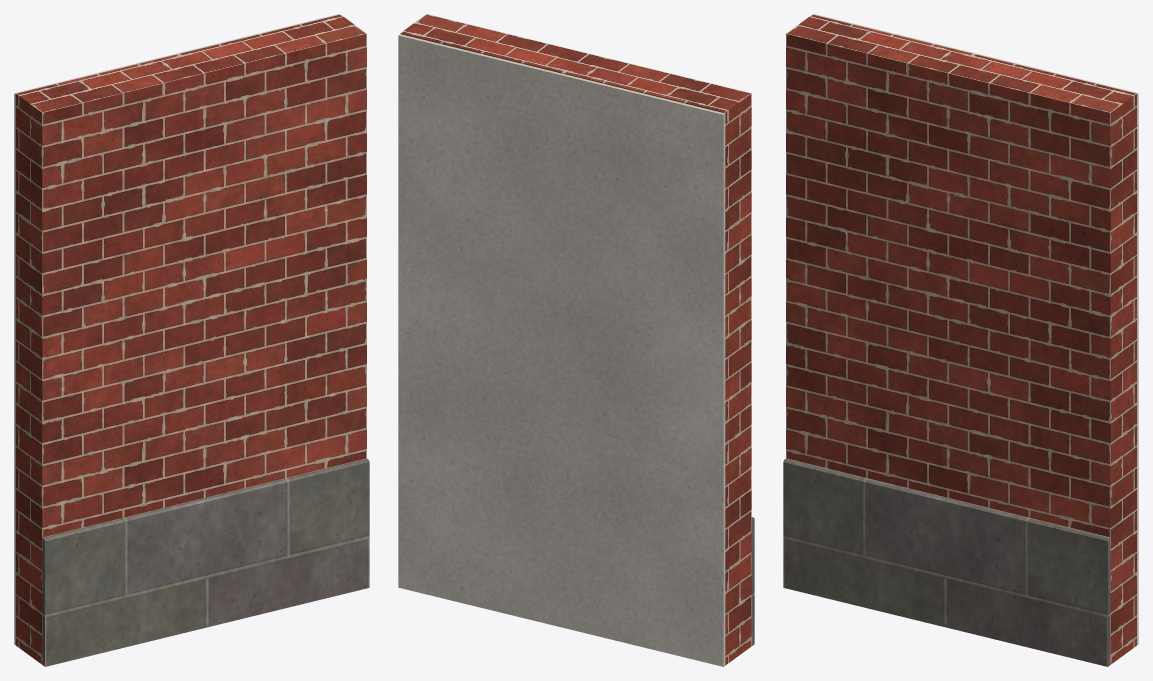
File: o_g_plain.glb
3 renders of one model, left to right at view 1: azimuth 30°, elevation 25°; view 2: azimuth 150°, elevation 25°; view 3: azimuth 330°, elevation 25°, orthographic.
Parts seen in each view (by area): view 1: o_g_plain_brick, o_g_plain_plinth, o_g_plain_plaster; view 2: o_g_plain_plaster, o_g_plain_brick; view 3: o_g_plain_brick, o_g_plain_plinth, o_g_plain_plaster.
Boxes of the visible parts, x1,y1,x2,y2 form: o_g_plain_brick: (16,14,366,664); o_g_plain_plinth: (42,458,369,666); o_g_plain_plaster: (14,14,339,645); o_g_plain_plaster: (398,34,725,666); o_g_plain_brick: (400,14,751,665); o_g_plain_brick: (786,14,1136,664); o_g_plain_plinth: (783,458,1110,666); o_g_plain_plaster: (813,14,1138,645).
Bounding box in the file's own units: 2 × 3.25 × 0.33.
Materials: 3 (3 with a texture image).
